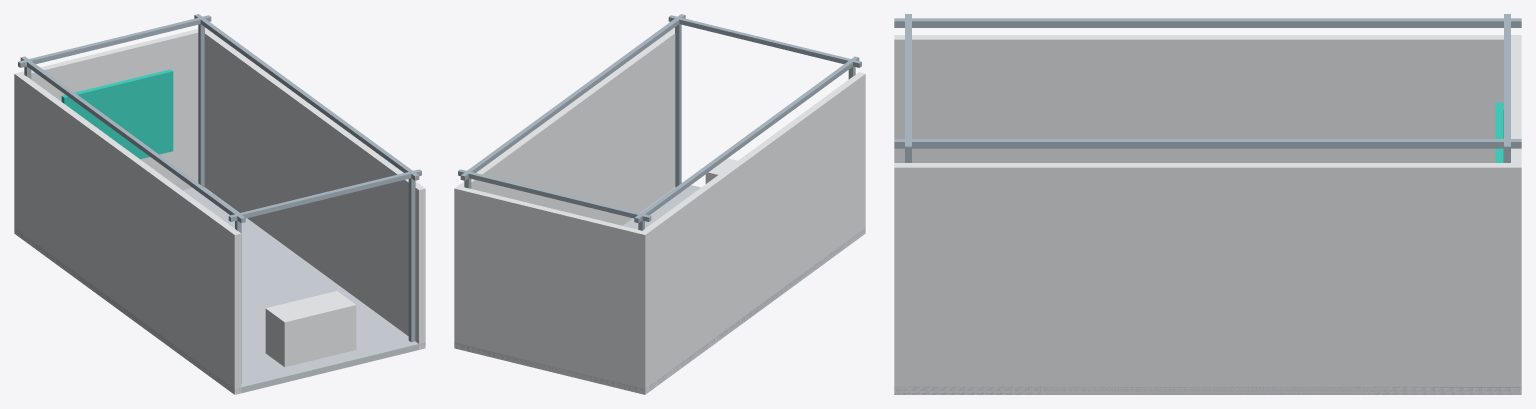
3 renders of one model, left to right at view 1: azimuth 30°, elevation 25°; view 2: azimuth 150°, elevation 25°; view 3: azimuth 270°, elevation 25°, orthographic. The views are drawn at different scales.
Visible parts, largest first — view 1: Exhibition Booth Concept; view 2: Exhibition Booth Concept; view 3: Exhibition Booth Concept.
Boxes of the visible parts, x1=… form: Exhibition Booth Concept: x1=14, y1=14, x2=425, y2=394; Exhibition Booth Concept: x1=454, y1=14, x2=865, y2=394; Exhibition Booth Concept: x1=894, y1=14, x2=1521, y2=394.
Size of the model in its own units: 4 by 3.49 by 8.
